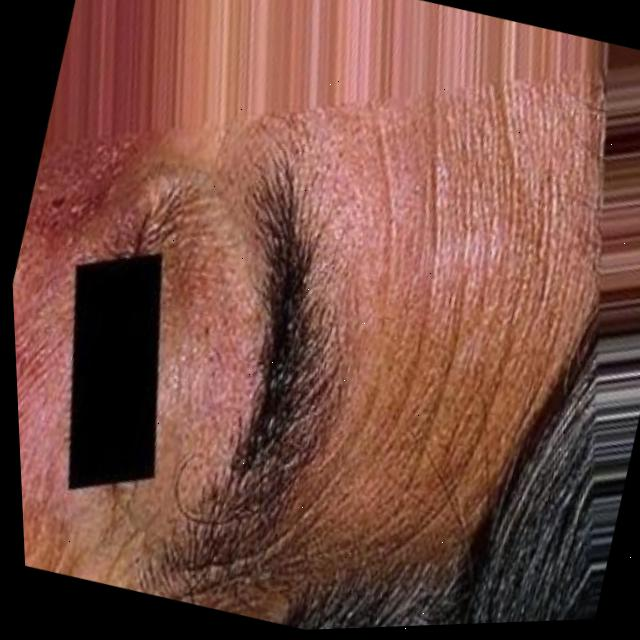Rosacea: (26, 147, 119, 240), (180, 327, 260, 421)
